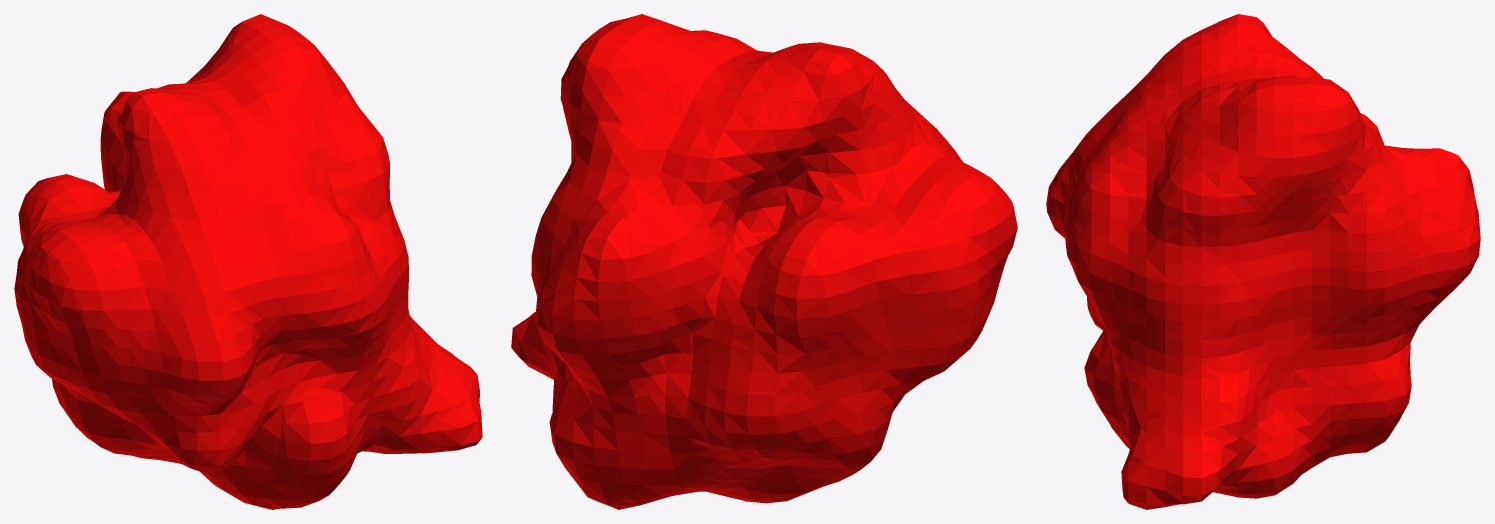
File: pdxK_coarse.dae
The picture shows the model from 3 angles, left to right: view 1: azimuth 30°, elevation 25°; view 2: azimuth 150°, elevation 25°; view 3: azimuth 270°, elevation 25°; orthographic projection. The views are drawn at different scales.
Visible parts, largest first — view 1: pdxK; view 2: pdxK; view 3: pdxK.
Boxes of the visible parts, bbox=[...] form: pdxK: bbox=[14, 14, 482, 509]; pdxK: bbox=[511, 14, 1017, 509]; pdxK: bbox=[1046, 14, 1480, 509].
Size of the model in its own units: 56.37 by 51.92 by 50.88.
